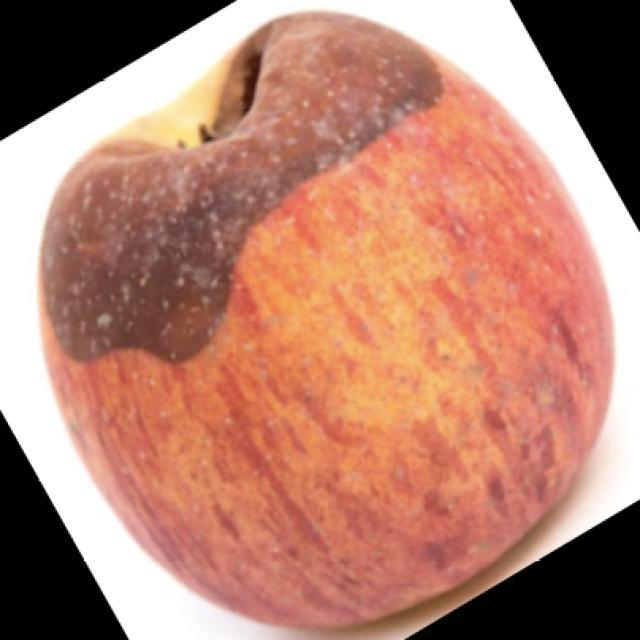Rotten: (41, 20, 606, 628)
